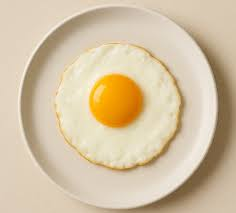Telur ceplok: (55, 43, 182, 170)
